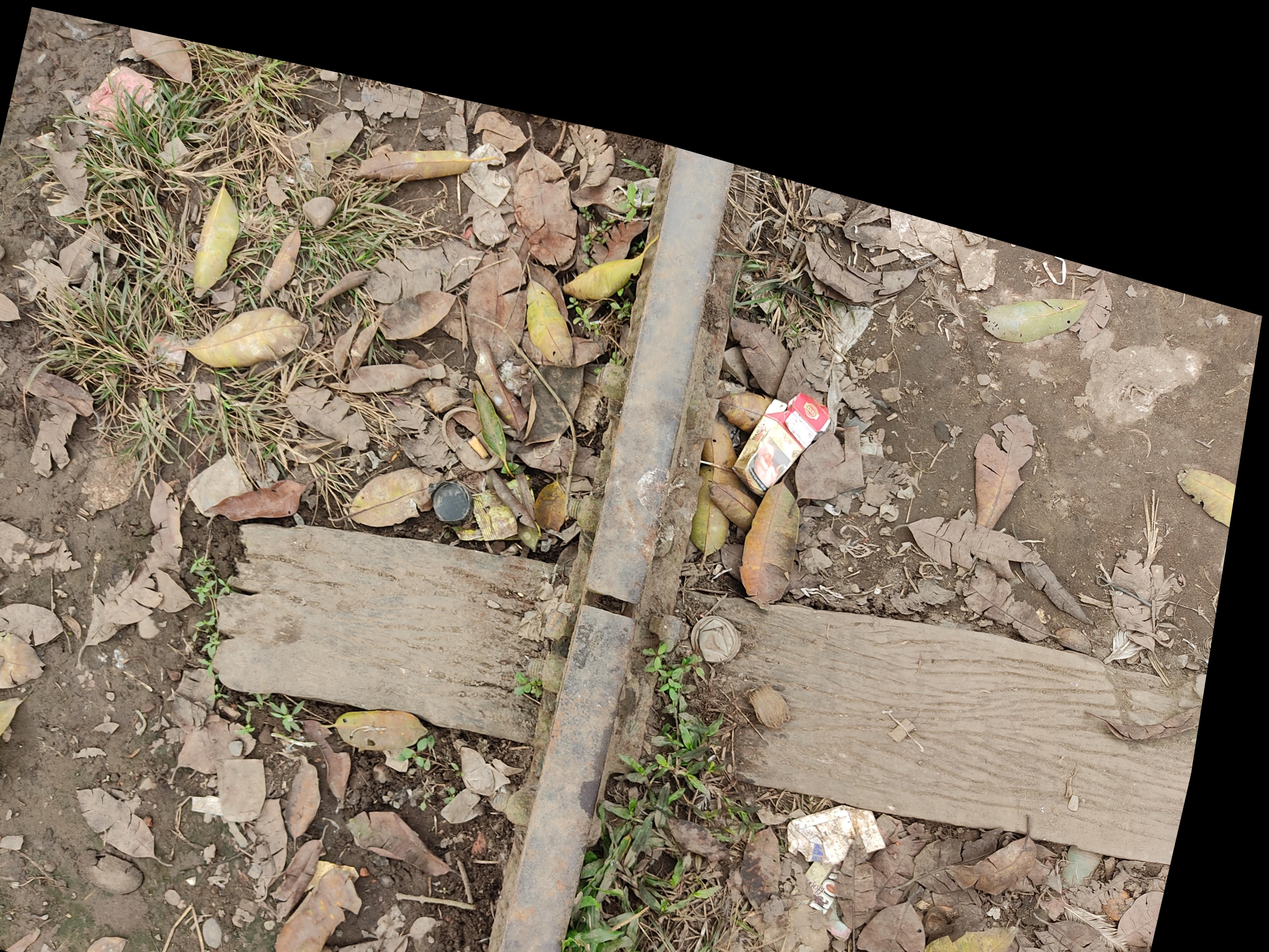person: (602, 470, 721, 605)
